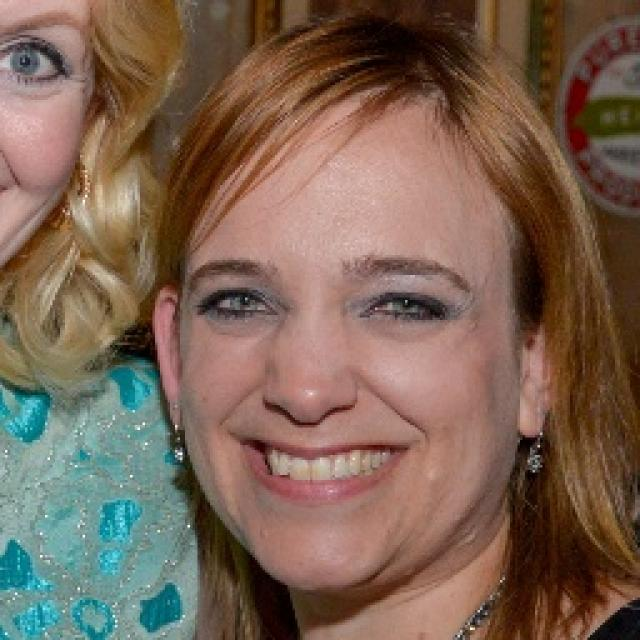earlobe: (150, 286, 186, 434), (516, 318, 559, 440)
